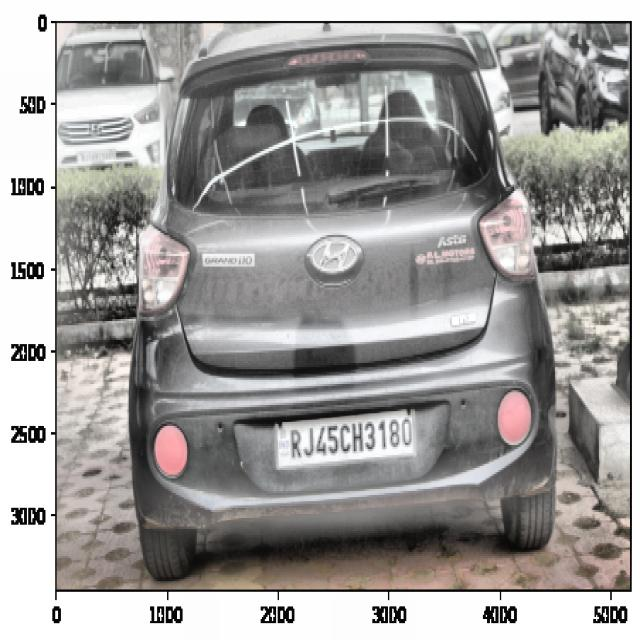license_plate: (284, 410, 416, 461)
